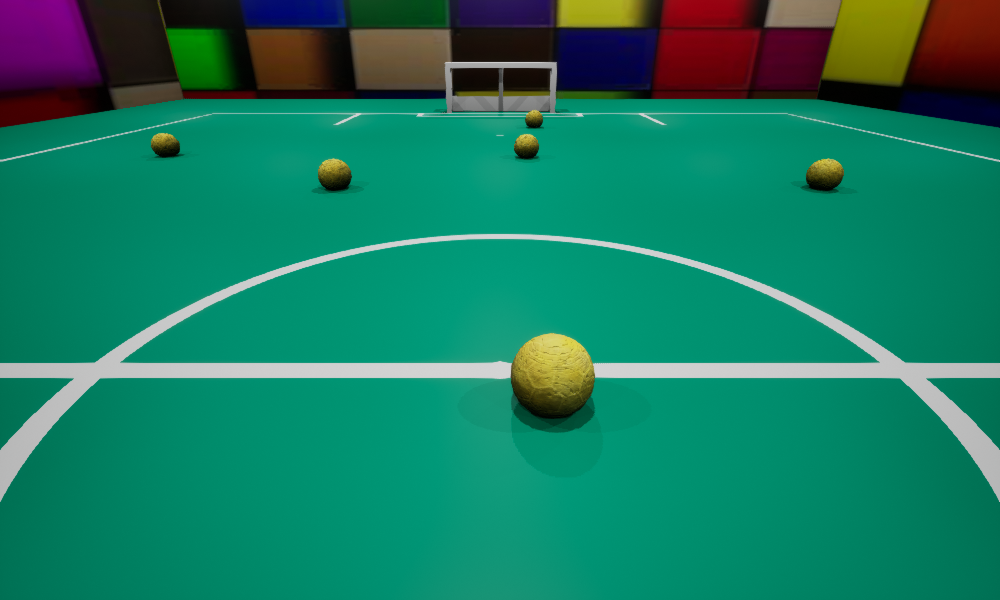b: (511, 333, 594, 417), (806, 158, 843, 189), (318, 158, 351, 189), (151, 133, 179, 156), (514, 134, 538, 157), (525, 110, 542, 127)
g: (445, 62, 556, 112)
